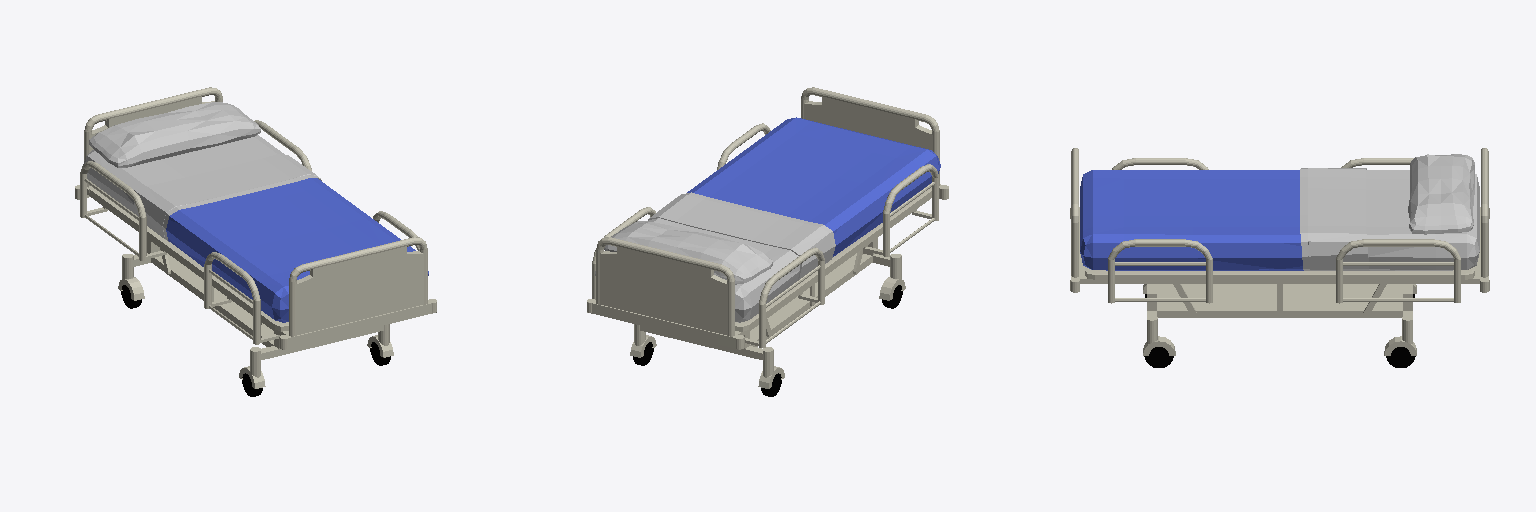
The model's file is adjustable-hospital-bed.obj.
3 renders of one model, left to right at view 1: azimuth 30°, elevation 25°; view 2: azimuth 150°, elevation 25°; view 3: azimuth 270°, elevation 25°, orthographic.
Parts seen in each view (by area): view 1: FootProtection, MiddleMattress, sweethome3d_opening_on_hinge_1_Pillow, sweethome3d_opening_on_hinge_1_TopMattress, sweethome3d_opening_on_hinge_2_FootMattress, sweethome3d_opening_on_hinge_1_Quilt, BaseAndWheels, HeadProtection, BaseFootProtection, sweethome3d_opening_on_rail_1_FallBarrierTopRight, sweethome3d_opening_on_rail_3_FallBarrierLowerRight, sweethome3d_opening_on_hinge_1_TopBaseMattress; view 2: HeadProtection, sweethome3d_opening_on_hinge_2_FootMattress, MiddleMattress, sweethome3d_opening_on_hinge_1_Quilt, BaseAndWheels, FootProtection, sweethome3d_opening_on_hinge_1_Pillow, sweethome3d_opening_on_hinge_1_TopMattress, BaseHeadProtection, sweethome3d_opening_on_rail_1_FallBarrierTopRight, sweethome3d_opening_on_rail_3_FallBarrierLowerRight, sweethome3d_opening_on_hinge_1_TopBaseMattress; view 3: BaseAndWheels, sweethome3d_opening_on_hinge_2_FootMattress, MiddleMattress, sweethome3d_opening_on_hinge_1_TopMattress, sweethome3d_opening_on_hinge_1_Quilt, sweethome3d_opening_on_hinge_1_Pillow, sweethome3d_opening_on_rail_2_FallBarrierTopLeft, sweethome3d_opening_on_rail_4_FallBarrierLowerLeft, BedBase, sweethome3d_opening_on_hinge_1_TopBaseMattress, FootProtection, HeadProtection (+3 smaller).
Part boxes in pixels (bbox=[...]): FootProtection: bbox=[289, 237, 427, 336]; MiddleMattress: bbox=[178, 187, 373, 278]; sweethome3d_opening_on_hinge_1_Pillow: bbox=[89, 102, 260, 167]; sweethome3d_opening_on_hinge_1_TopMattress: bbox=[83, 135, 329, 250]; sweethome3d_opening_on_hinge_2_FootMattress: bbox=[222, 218, 428, 322]; sweethome3d_opening_on_hinge_1_Quilt: bbox=[134, 154, 321, 242]; BaseAndWheels: bbox=[118, 239, 393, 396]; HeadProtection: bbox=[84, 87, 222, 186]; BaseFootProtection: bbox=[279, 299, 436, 349]; sweethome3d_opening_on_rail_1_FallBarrierTopRight: bbox=[80, 161, 146, 260]; sweethome3d_opening_on_rail_3_FallBarrierLowerRight: bbox=[204, 252, 260, 344]; sweethome3d_opening_on_hinge_1_TopBaseMattress: bbox=[89, 186, 187, 260]; HeadProtection: bbox=[596, 237, 734, 336]; sweethome3d_opening_on_hinge_2_FootMattress: bbox=[738, 117, 940, 212]; MiddleMattress: bbox=[694, 155, 886, 250]; sweethome3d_opening_on_hinge_1_Quilt: bbox=[648, 192, 835, 280]; BaseAndWheels: bbox=[630, 238, 905, 396]; FootProtection: bbox=[801, 87, 939, 185]; sweethome3d_opening_on_hinge_1_Pillow: bbox=[604, 221, 772, 284]; sweethome3d_opening_on_hinge_1_TopMattress: bbox=[595, 186, 845, 322]; BaseHeadProtection: bbox=[587, 299, 744, 349]; sweethome3d_opening_on_rail_1_FallBarrierTopRight: bbox=[759, 247, 824, 347]; sweethome3d_opening_on_rail_3_FallBarrierLowerRight: bbox=[883, 164, 938, 256]; sweethome3d_opening_on_hinge_1_TopBaseMattress: bbox=[735, 256, 841, 331]; BaseAndWheels: bbox=[1143, 284, 1416, 367]; sweethome3d_opening_on_hinge_2_FootMattress: bbox=[1080, 170, 1192, 270]; MiddleMattress: bbox=[1193, 170, 1279, 270]; sweethome3d_opening_on_hinge_1_TopMattress: bbox=[1280, 170, 1479, 270]; sweethome3d_opening_on_hinge_1_Quilt: bbox=[1300, 168, 1369, 270]; sweethome3d_opening_on_hinge_1_Pillow: bbox=[1408, 154, 1474, 234]; sweethome3d_opening_on_rail_2_FallBarrierTopLeft: bbox=[1336, 239, 1460, 303]; sweethome3d_opening_on_rail_4_FallBarrierLowerLeft: bbox=[1108, 239, 1212, 303]; BedBase: bbox=[1080, 253, 1479, 283]; sweethome3d_opening_on_hinge_1_TopBaseMattress: bbox=[1280, 267, 1474, 279]; FootProtection: bbox=[1071, 148, 1078, 277]; HeadProtection: bbox=[1481, 148, 1488, 277].
Bounding box in the file's own units: 99.89 × 87.96 × 210.